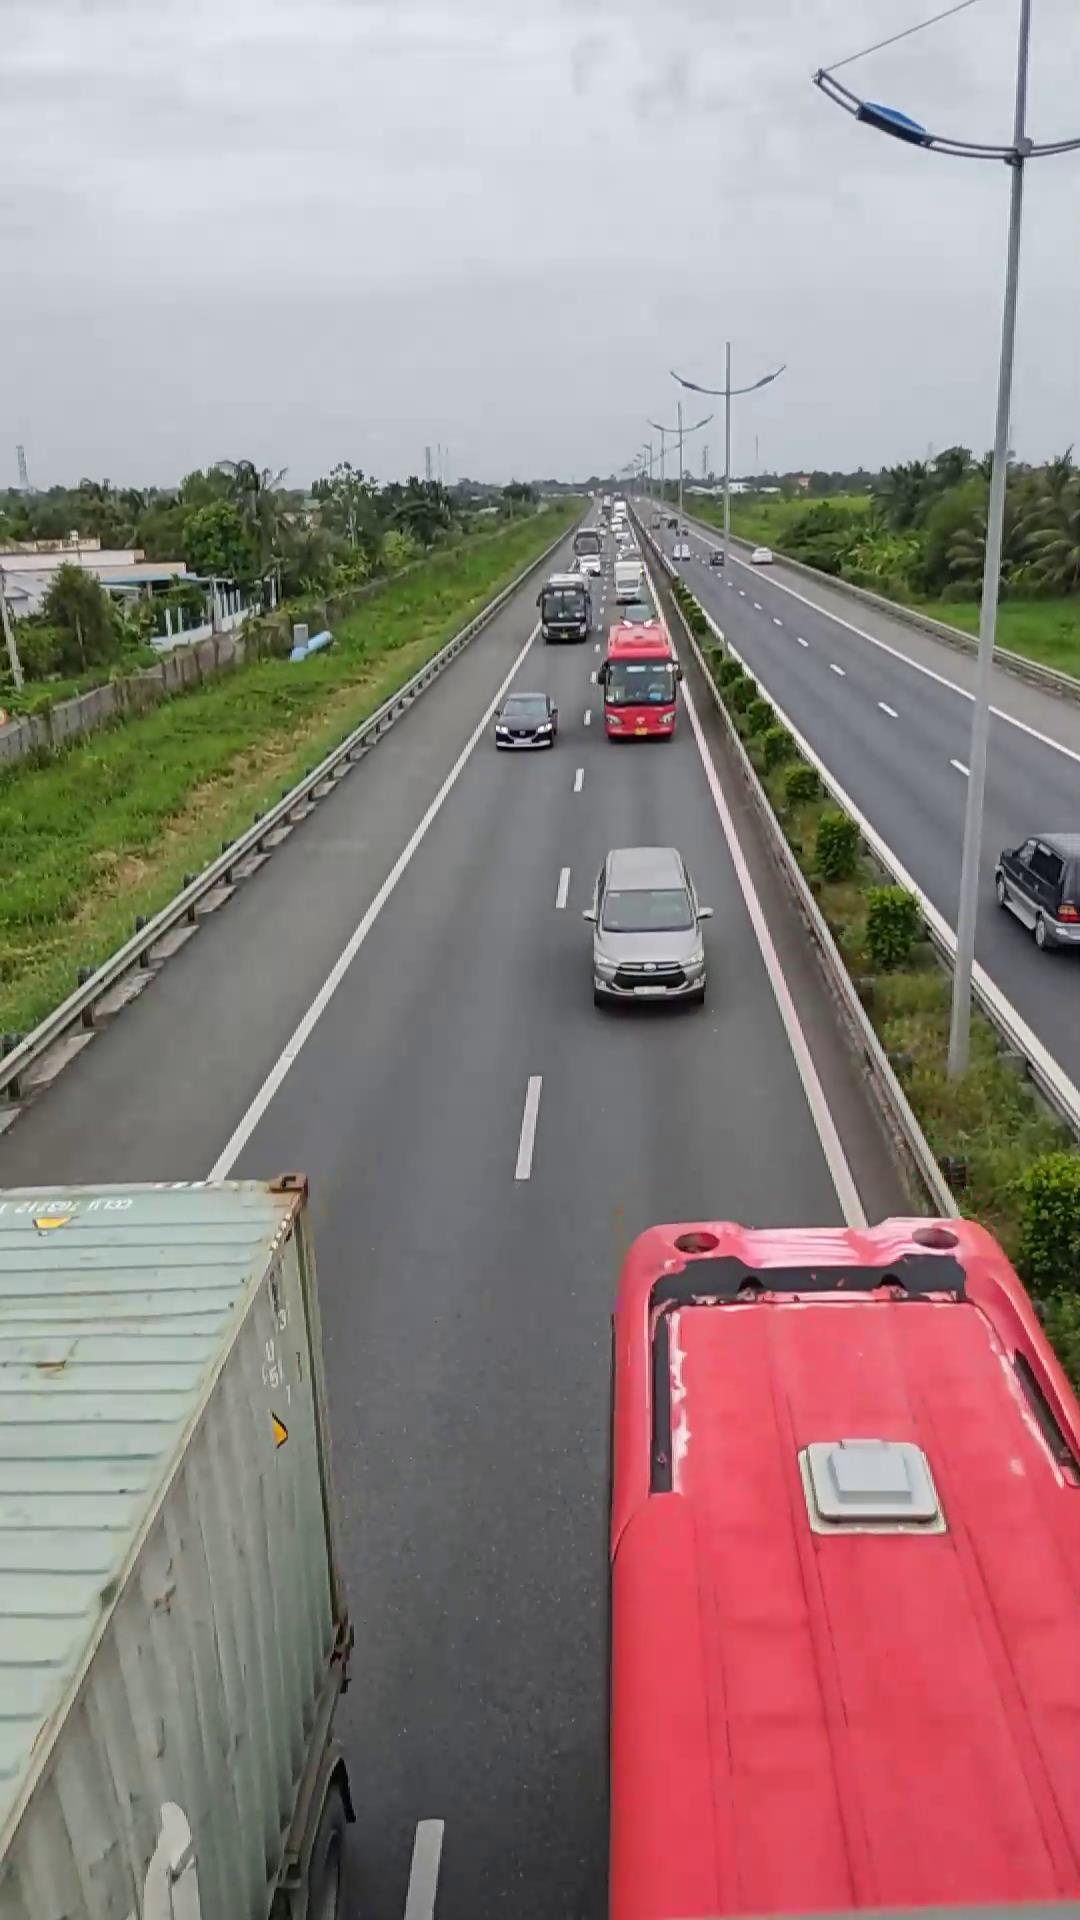bus: (612, 1217, 1080, 1909)
car: (585, 845, 710, 1008)
container: (0, 1167, 357, 1909)
